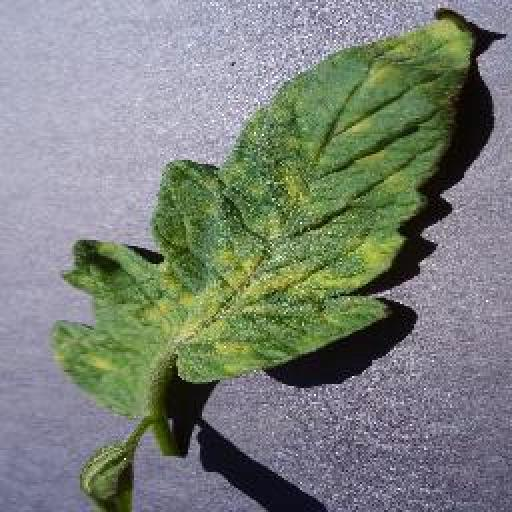disease_tomato: (54, 9, 477, 415)
